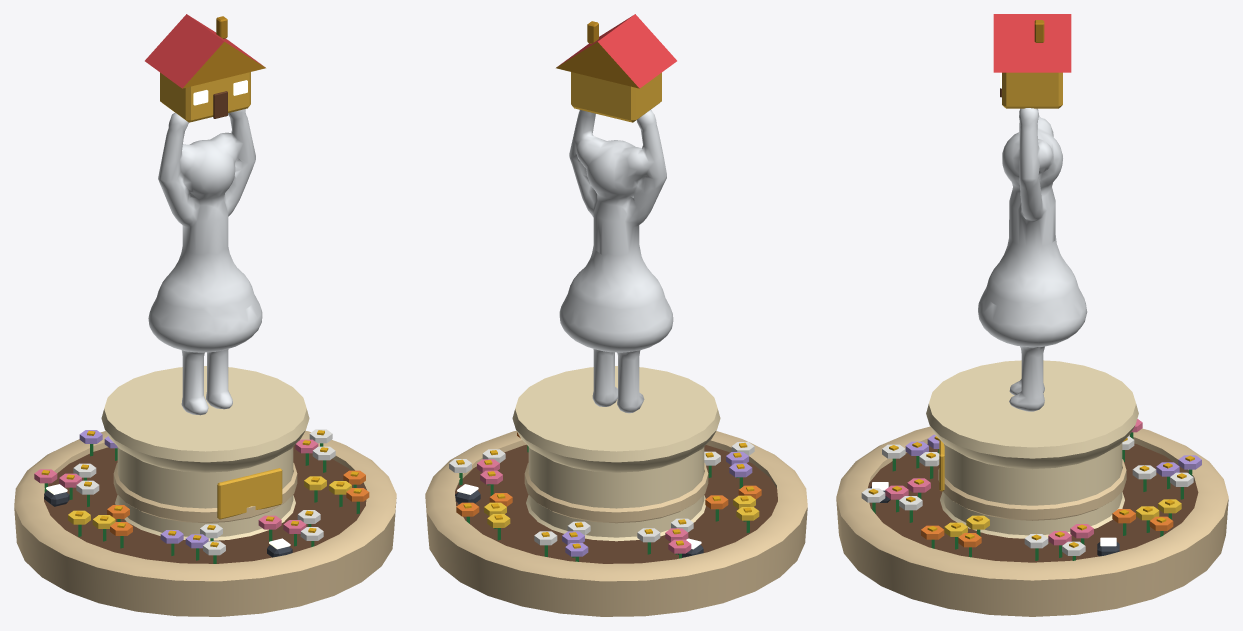
The model's file is estatua_morada.glb.
The picture shows the model from 3 angles, left to right: view 1: azimuth 30°, elevation 25°; view 2: azimuth 150°, elevation 25°; view 3: azimuth 270°, elevation 25°; orthographic projection. The views are drawn at different scales.
Parts seen in each view (by area): view 1: estatua_morada; view 2: estatua_morada; view 3: estatua_morada.
Boxes of the visible parts, x1,y1,x2,y2 form: estatua_morada: (14, 14, 396, 616); estatua_morada: (425, 14, 807, 616); estatua_morada: (836, 14, 1228, 616).
Bounding box in the file's own units: 2.84 × 4.18 × 2.84.
2 materials, 1 textured.
